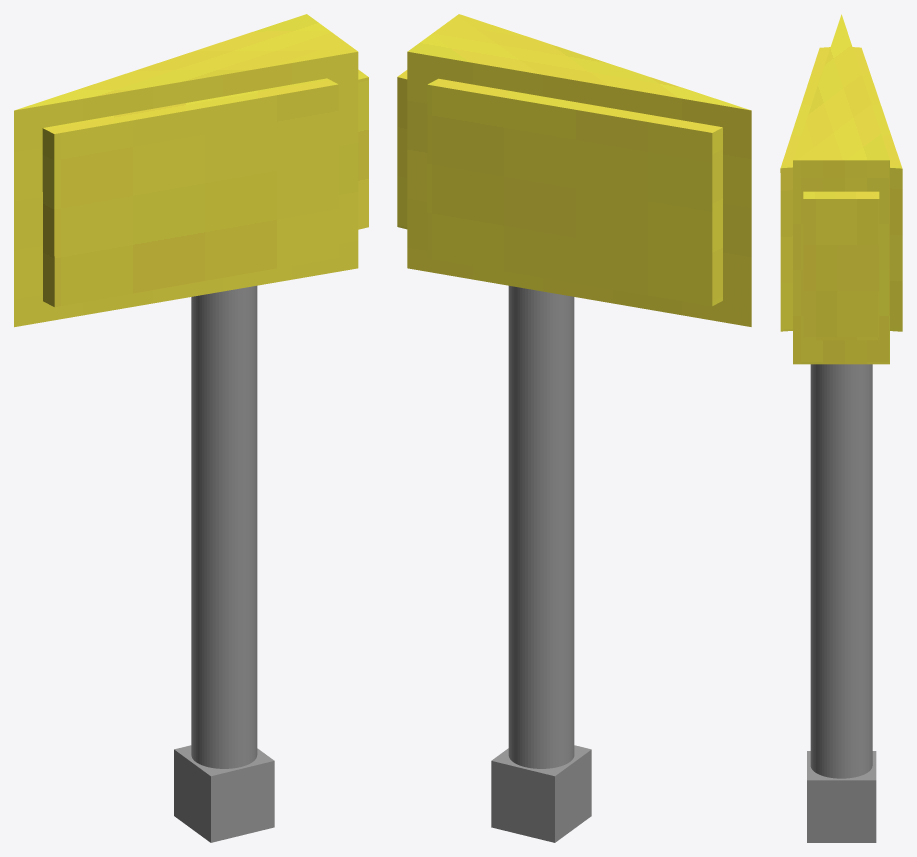
File: itemgoldsuperaxe.obj
The picture shows the model from 3 angles, left to right: view 1: azimuth 30°, elevation 25°; view 2: azimuth 150°, elevation 25°; view 3: azimuth 270°, elevation 25°; orthographic projection. The views are drawn at different scales.
Visible parts, largest first — view 1: HammerHead_Cube.002, HammerHandle_Cylinder.003, BottomHammer_Cube.003; view 2: HammerHead_Cube.002, HammerHandle_Cylinder.003, BottomHammer_Cube.003; view 3: HammerHead_Cube.002, HammerHandle_Cylinder.003, BottomHammer_Cube.003.
Boxes of the visible parts, box(x1,y1,x2,y2) form: HammerHead_Cube.002: box(14, 14, 368, 327); HammerHandle_Cylinder.003: box(191, 285, 257, 768); BottomHammer_Cube.003: box(174, 745, 274, 842); HammerHead_Cube.002: box(397, 14, 751, 326); HammerHandle_Cylinder.003: box(508, 285, 574, 768); BottomHammer_Cube.003: box(491, 745, 591, 842); HammerHead_Cube.002: box(780, 14, 902, 364); HammerHandle_Cylinder.003: box(810, 364, 872, 778); BottomHammer_Cube.003: box(807, 751, 876, 842).
Size of the model in its own units: 0.6562 by 1.43 by 0.2202.
